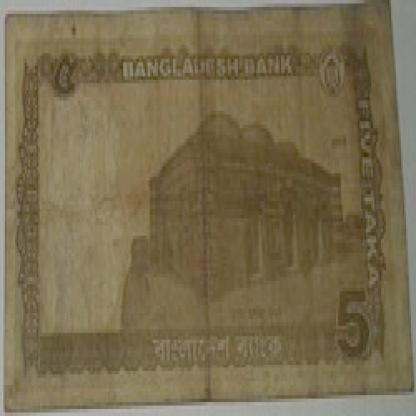Five Taka: (328, 274, 378, 378), (43, 35, 88, 138)
